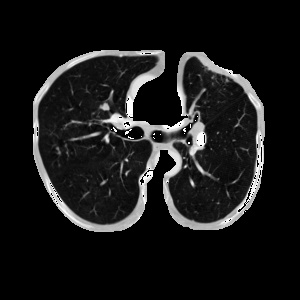PN: (101, 103, 109, 111)
